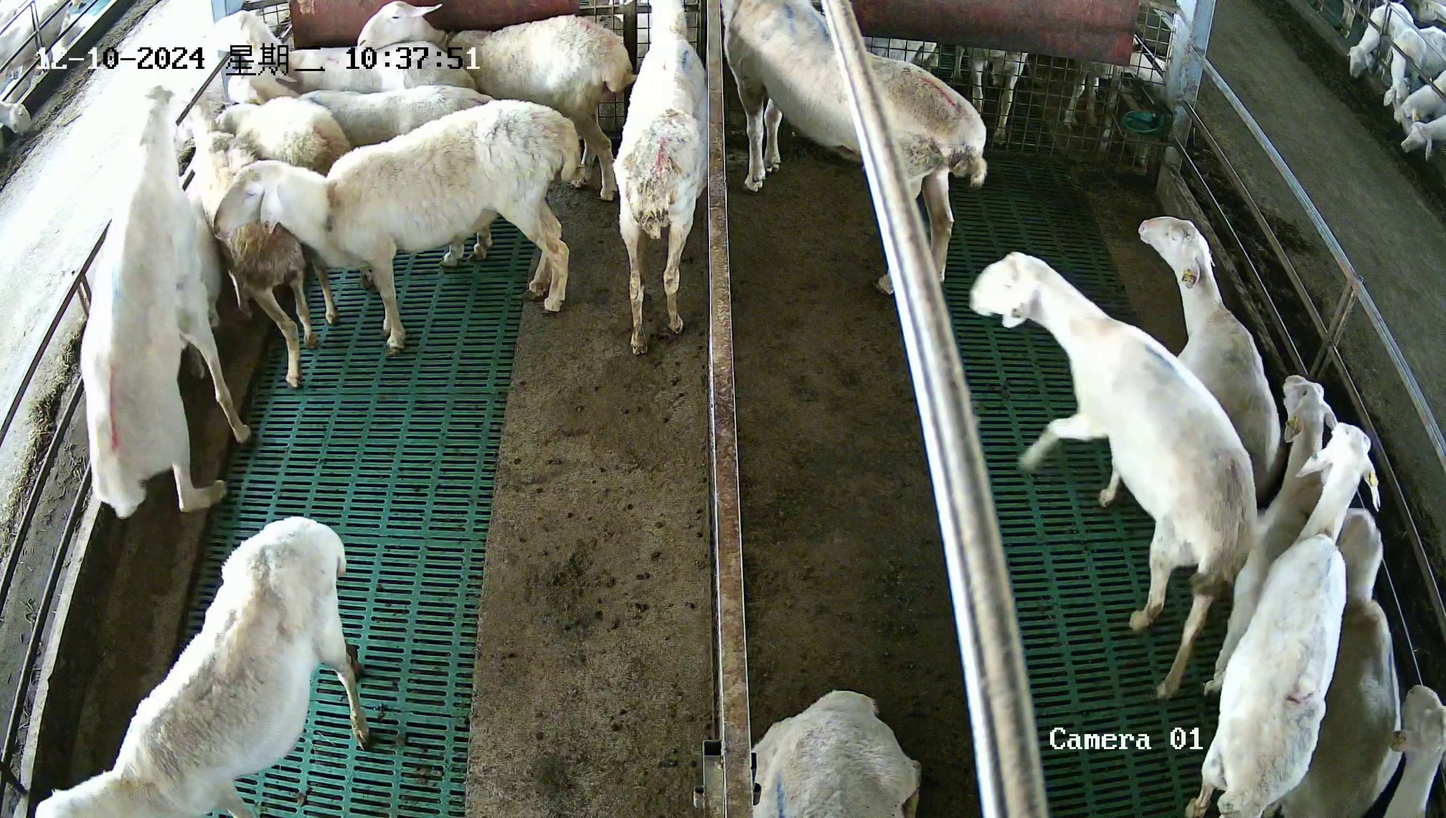Smounting: (76, 83, 254, 518)
mounted: (171, 179, 252, 446)
